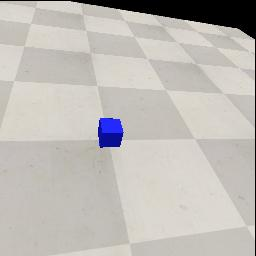box: (98, 118, 124, 148)
